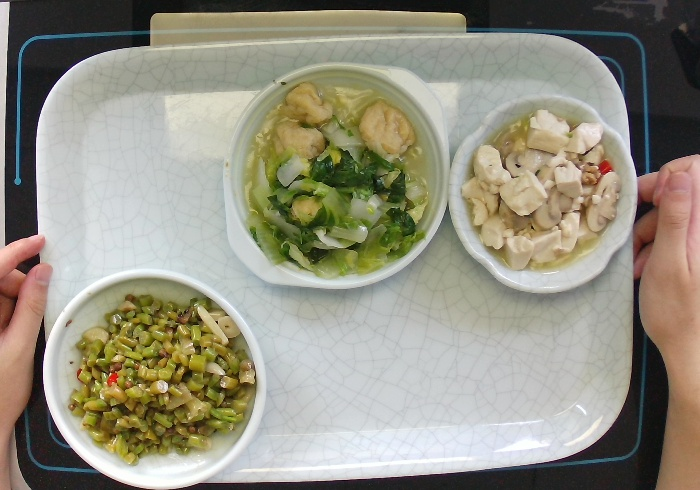JYsf-Ao_Yuan_Wan: (446, 92, 639, 295)
JYsf-Shuang_Er_Pan: (220, 59, 451, 292)
JYsf-Xiao_Yuan_Pan: (40, 266, 269, 490)
